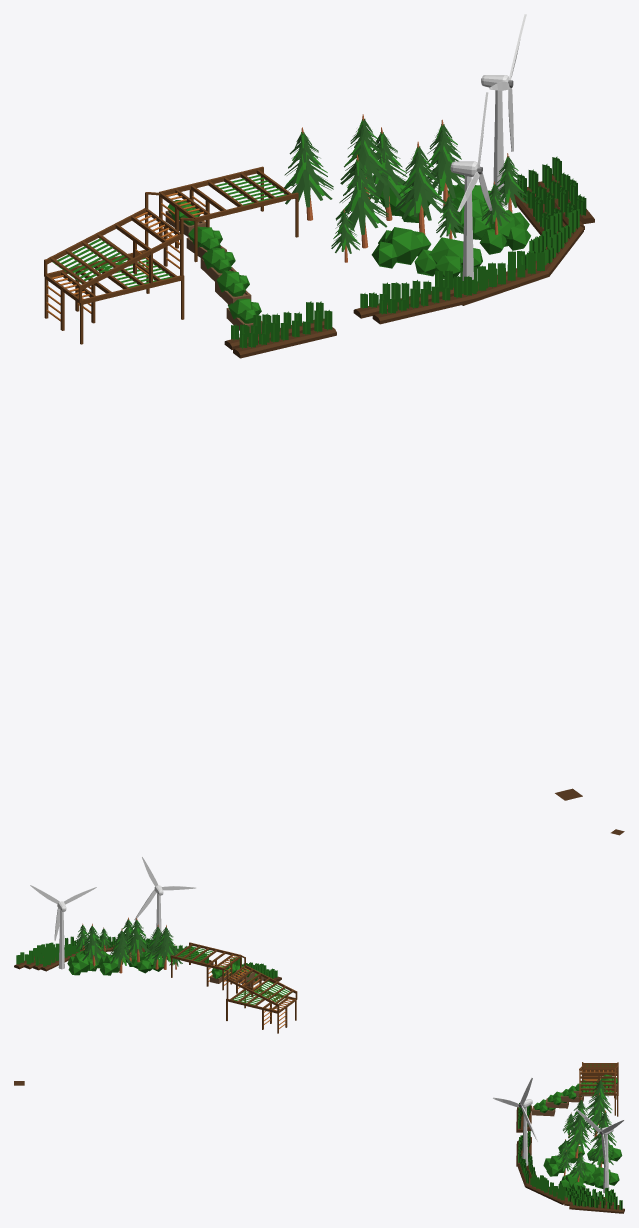
Rendered from solution_9_green_park.fbx.
3 views of the same model, one above another, from view 1: azimuth 30°, elevation 25°; view 2: azimuth 150°, elevation 25°; view 3: azimuth 270°, elevation 25° (orthographic). The views are drawn at different scales.
Parts seen in each view (by area): view 1: solution_9_green_park; view 2: solution_9_green_park; view 3: solution_9_green_park.
Part boxes in pixels (bbox=[...]): solution_9_green_park: bbox=[44, 14, 594, 800]; solution_9_green_park: bbox=[14, 829, 624, 1033]; solution_9_green_park: bbox=[14, 1062, 624, 1213].
Bounding box in the file's own units: 6576 × 2307 × 11524.
